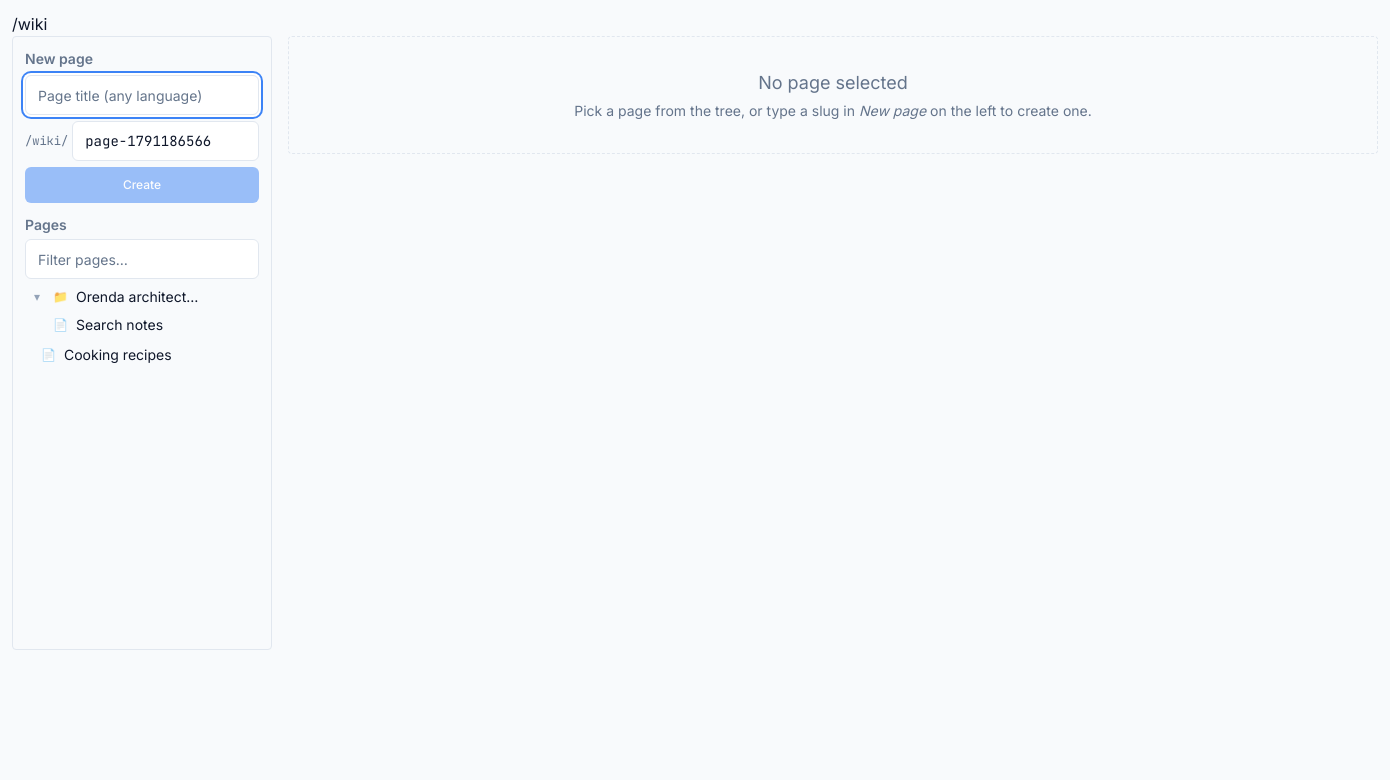
Test case: WikiSidebar search › renders Content matches with mark highlighting and navigates to /wiki/<slug> on click
Check: the link "Orenda architecture" is shown, box [72,283,205,311]
Type "needle" into the field named "Search wiki" at (142, 259), box [25,239,259,279]
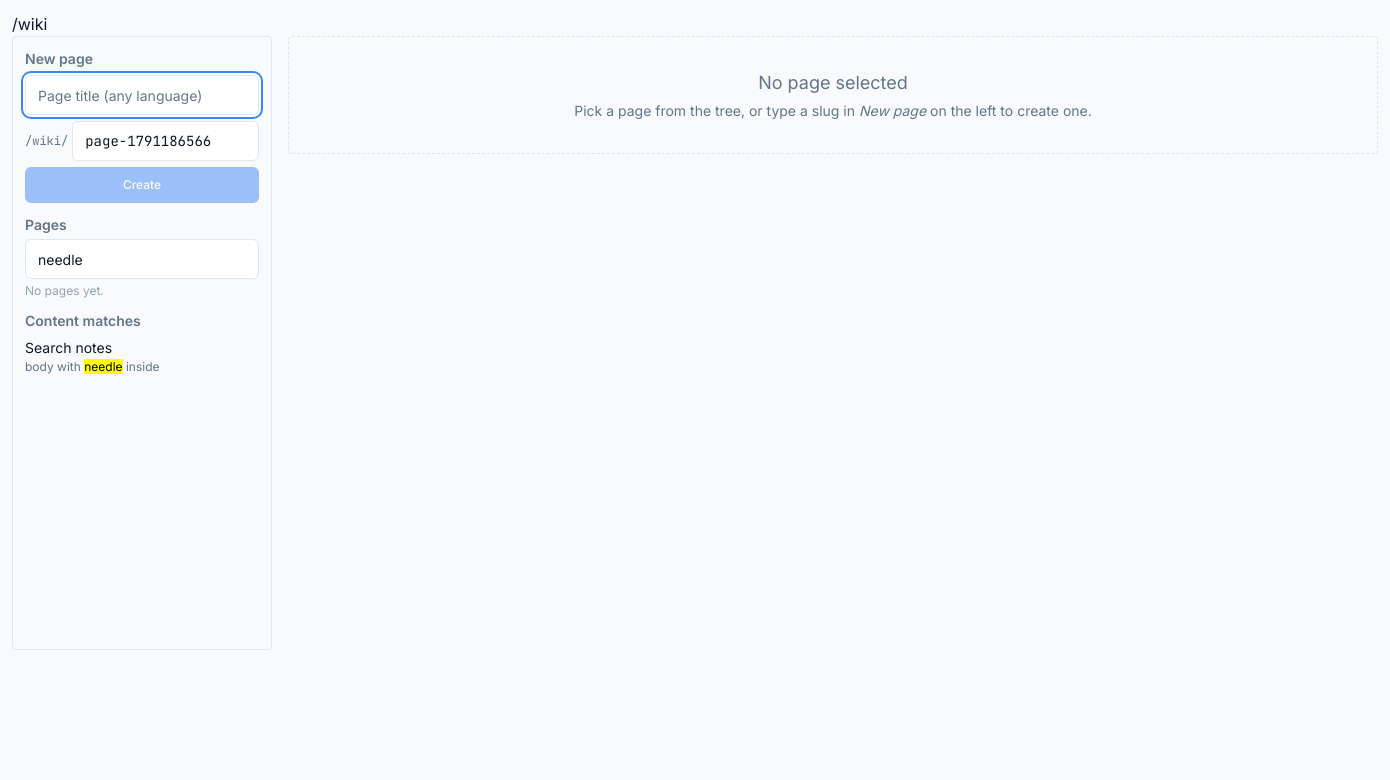
Check: the heading "Content matches" is shown, box [25,312,141,329]
Check: the text "needle" is shown, box [84,359,122,374]
Check: the text "body with needle inside" is shown, box [25,359,160,374]
Click the button "Search notes" at (142, 348), box [25,338,259,358]
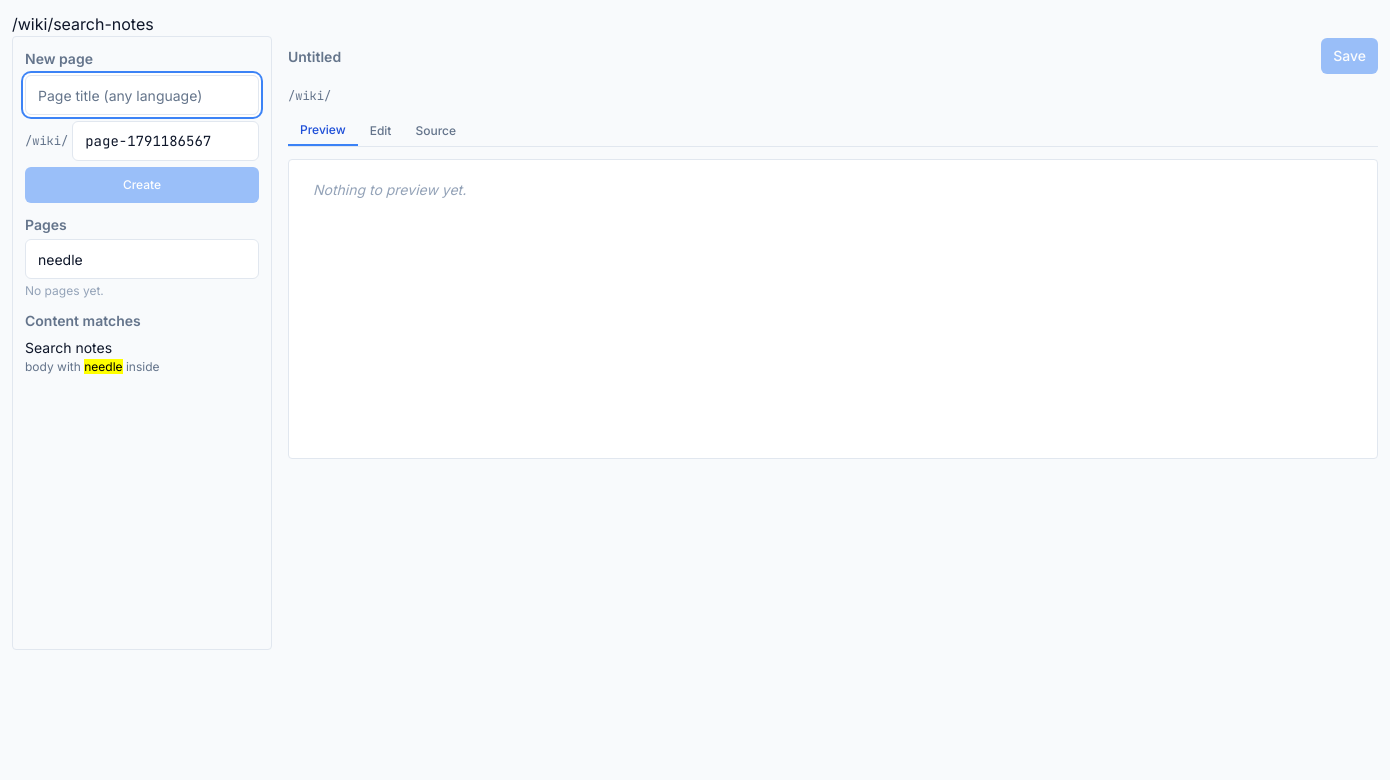
Check: the text with test id "location" reads "/wiki/search-notes", box [12,14,154,34]
